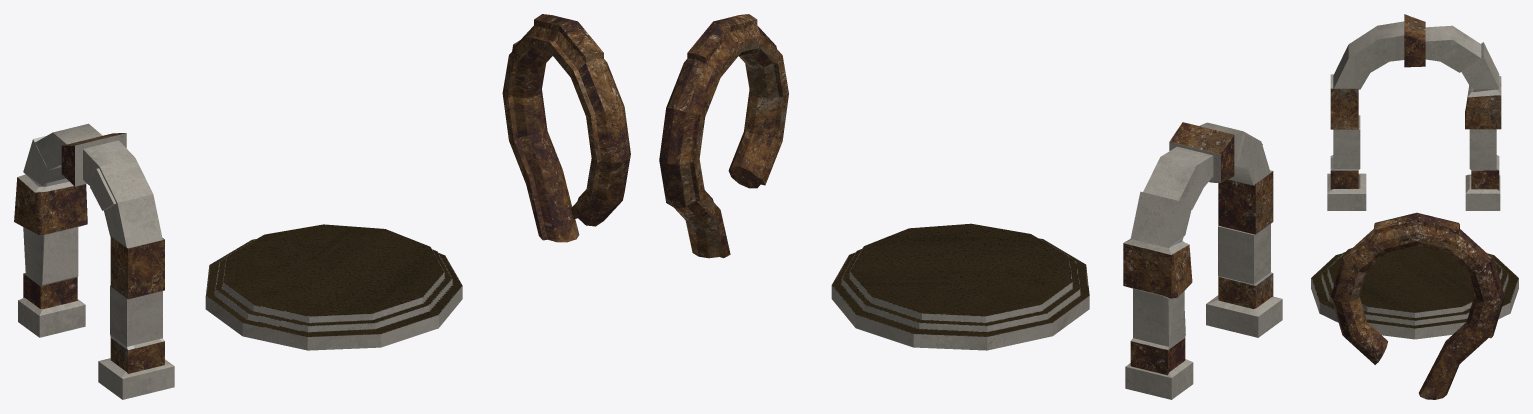
Rendered from portals.glb.
3 views of the same model, side by side, from view 1: azimuth 30°, elevation 25°; view 2: azimuth 150°, elevation 25°; view 3: azimuth 270°, elevation 25° (orthographic). The views are drawn at different scales.
Parts seen in each view (by area): view 1: cave_portal, pCylinder1, future_portal; view 2: cave_portal, pCylinder1, future_portal; view 3: cave_portal, future_portal, pCylinder1.
Boxes of the visible parts, box(x1,y1,x2,y2) form: cave_portal: box(14, 123, 174, 399); pCylinder1: box(205, 224, 462, 350); future_portal: box(502, 14, 630, 242); cave_portal: box(1123, 122, 1282, 399); pCylinder1: box(831, 223, 1089, 350); future_portal: box(659, 14, 788, 258); cave_portal: box(1327, 14, 1501, 210); future_portal: box(1331, 212, 1504, 399); pCylinder1: box(1311, 245, 1518, 339).
Size of the model in its own units: 0.2635 by 0.1089 by 0.1128.
Materials: 2 (2 with a texture image).
